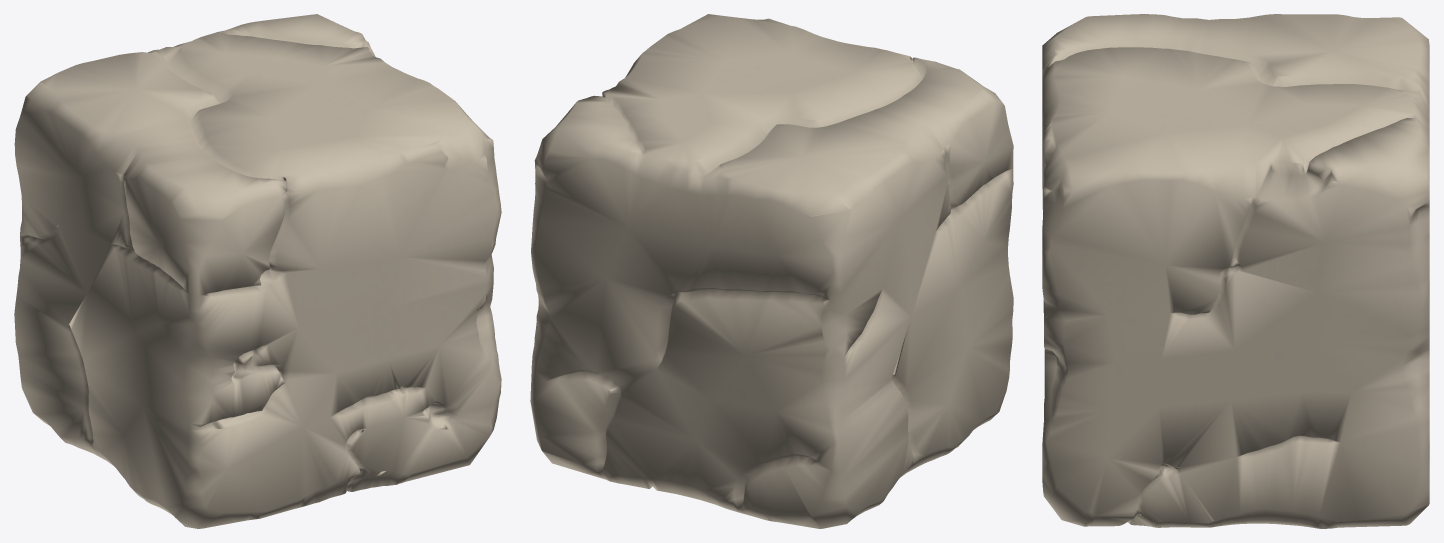
Rendered from original_glb.glb.
The picture shows the model from 3 angles, left to right: view 1: azimuth 30°, elevation 25°; view 2: azimuth 150°, elevation 25°; view 3: azimuth 270°, elevation 25°; orthographic projection. The views are drawn at different scales.
Parts seen in each view (by area): view 1: tile-2-sandstone; view 2: tile-2-sandstone; view 3: tile-2-sandstone.
Part boxes in pixels (x1,y1,x2,y2): tile-2-sandstone: (14, 14, 501, 528); tile-2-sandstone: (530, 14, 1013, 528); tile-2-sandstone: (1042, 14, 1429, 528).
Size of the model in its own units: 0.9707 by 0.998 by 0.9707.
1 material, 1 textured.
